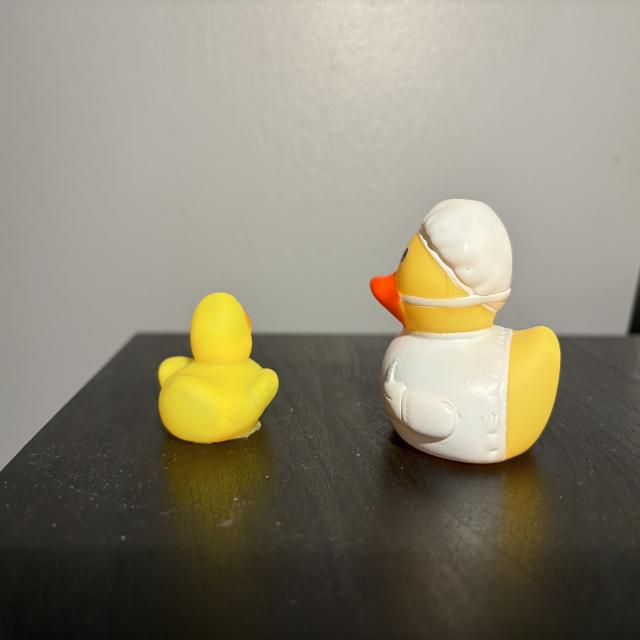duck_regular: (160, 294, 279, 442)
duck_specialty: (372, 198, 562, 465)
